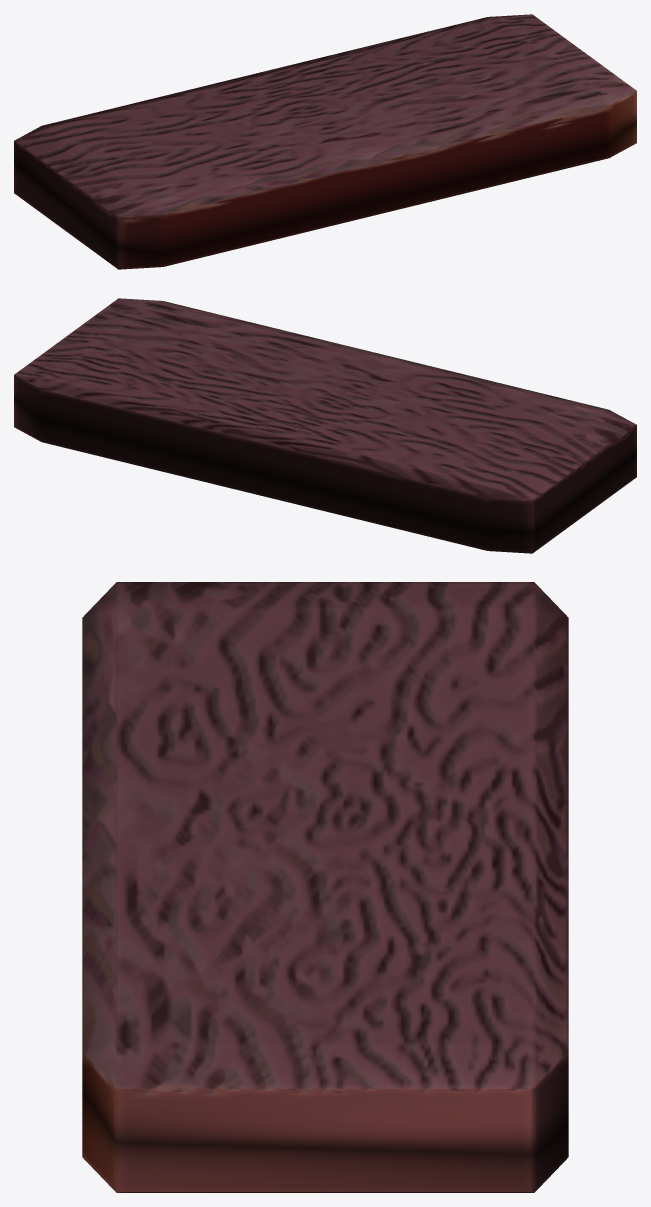
Rendered from tahta.fbx.
The picture shows the model from 3 angles, top to bottom: view 1: azimuth 30°, elevation 25°; view 2: azimuth 150°, elevation 25°; view 3: azimuth 270°, elevation 25°; orthographic projection. The views are drawn at different scales.
Visible parts, largest first — view 1: Cube.003; view 2: Cube.003; view 3: Cube.003.
Part boxes in pixels (box(x1,y1,x2,y2)): Cube.003: box(14, 14, 636, 269); Cube.003: box(14, 298, 636, 553); Cube.003: box(82, 582, 568, 1192).
Size of the model in its own units: 536 by 60.08 by 218.
Materials: 1 (1 with a texture image).
